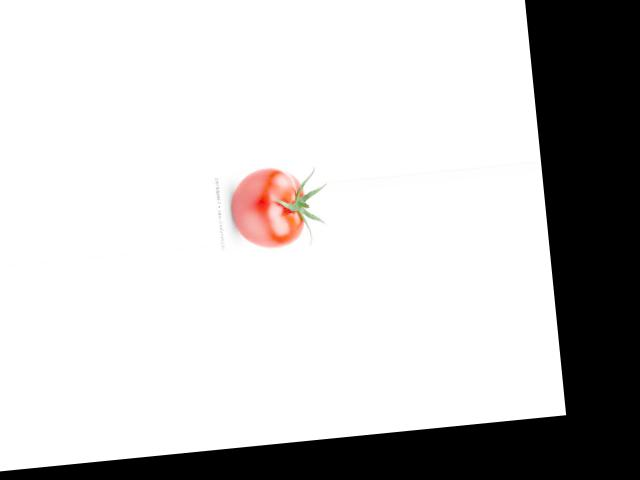tomato: (229, 164, 308, 251)
